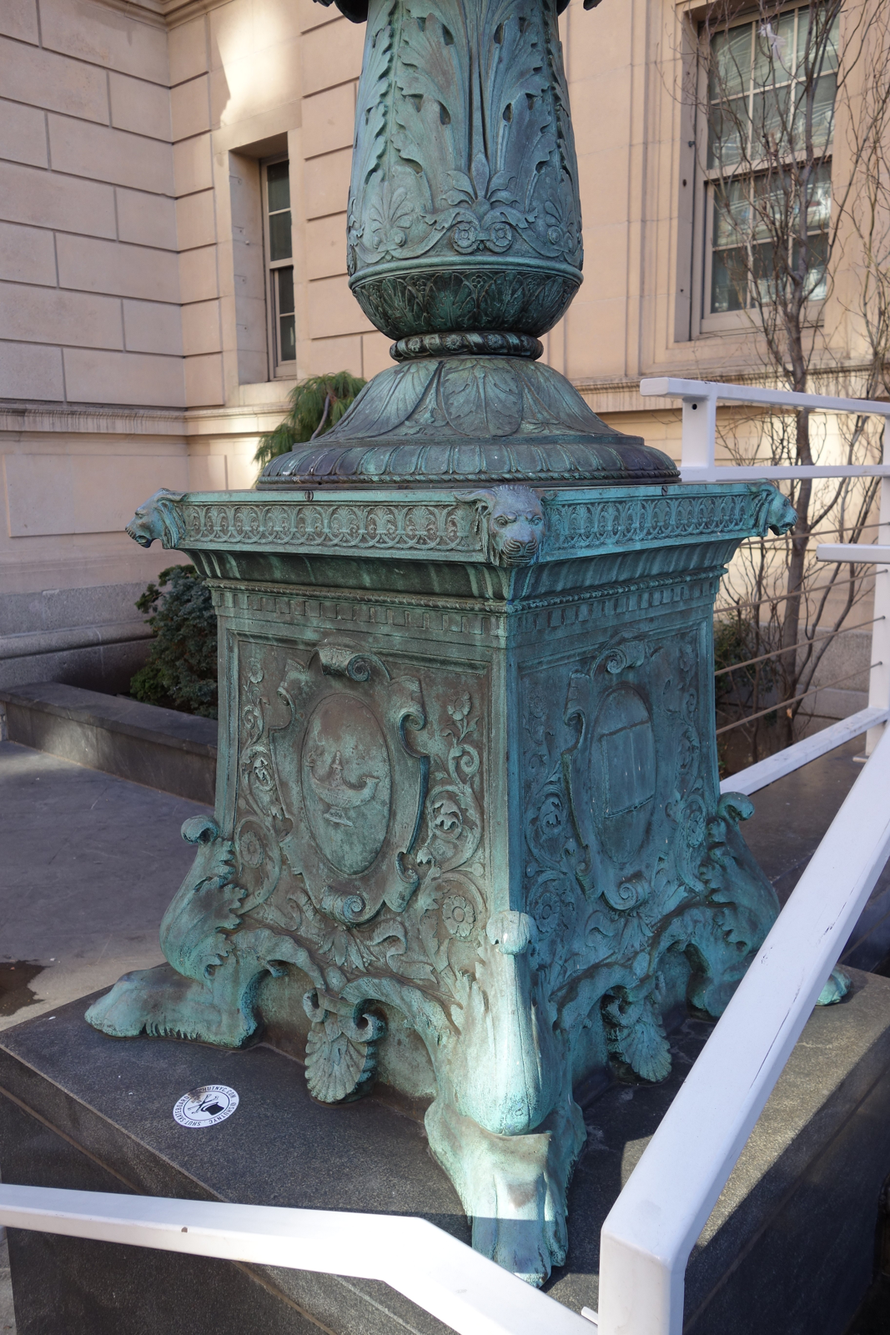fachada: (8, 13, 890, 684)
poste: (88, 0, 792, 1239)
